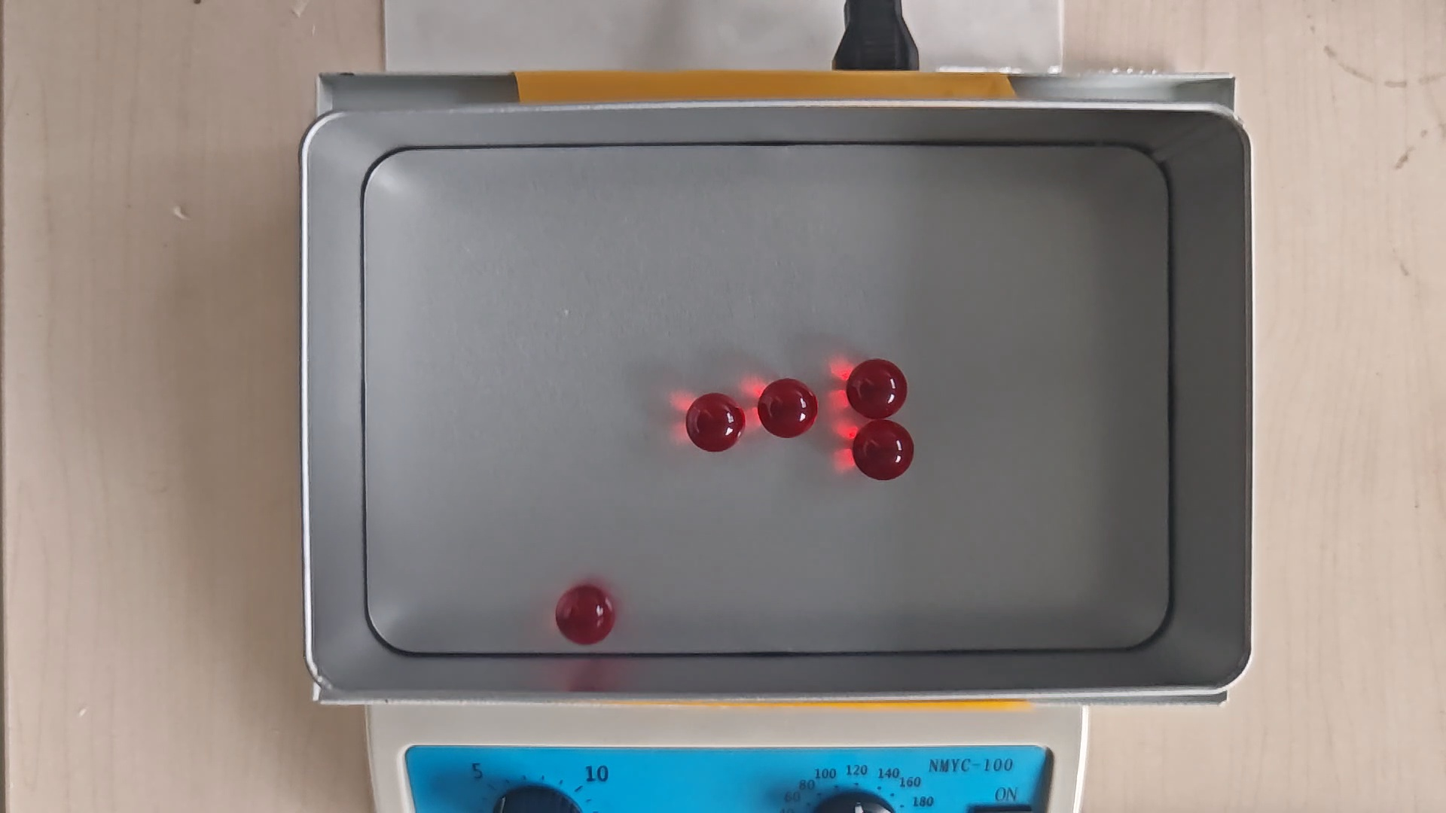ball: (852, 421, 914, 482), (758, 378, 817, 441), (848, 358, 908, 419), (556, 584, 615, 645), (687, 393, 745, 452)
container: (357, 137, 1172, 657)
